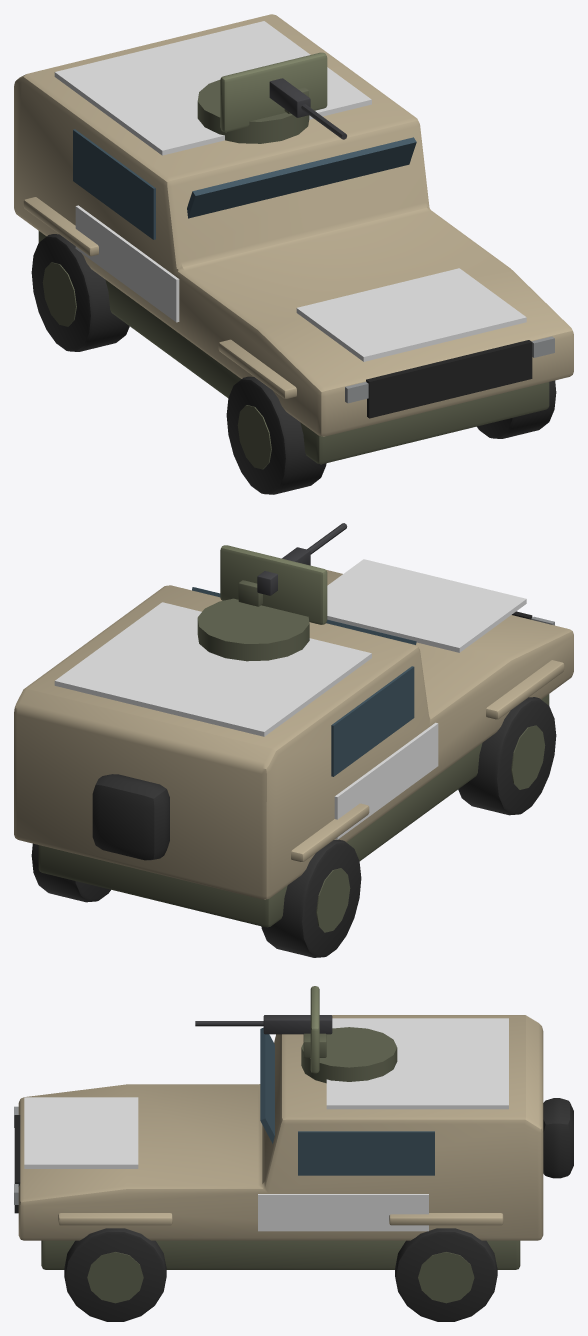
Rendered from recon.glb.
3 views of the same model, one above another, from view 1: azimuth 30°, elevation 25°; view 2: azimuth 150°, elevation 25°; view 3: azimuth 270°, elevation 25° (orthographic). The views are drawn at different scales.
Parts seen in each view (by area): view 1: hull, turret; view 2: hull, turret; view 3: hull, turret.
Boxes of the visible parts, x1,y1,x2,y2 form: hull: (14, 14, 573, 494); turret: (197, 52, 346, 143); hull: (14, 559, 573, 957); turret: (197, 523, 347, 661); hull: (14, 1015, 573, 1321); turret: (195, 986, 397, 1083).
Bounding box in the file's own units: 2.41 × 2.52 × 4.91.
